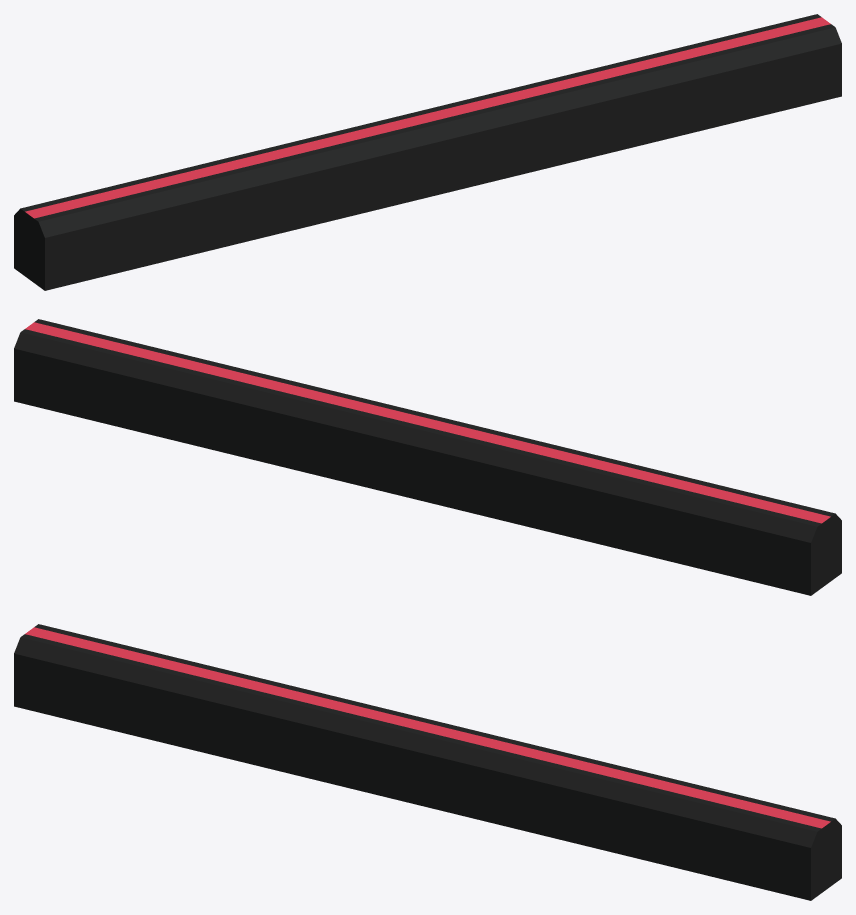
The model's file is obstacle_5_001.fbx.
3 renders of one model, top to bottom at view 1: azimuth 30°, elevation 25°; view 2: azimuth 150°, elevation 25°; view 3: azimuth 330°, elevation 25°, orthographic.
Parts seen in each view (by area): view 1: obstacle_5_001; view 2: obstacle_5_001; view 3: obstacle_5_001.
Part boxes in pixels (<box>): obstacle_5_001: <box>14,14,841,290</box>; obstacle_5_001: <box>14,319,841,595</box>; obstacle_5_001: <box>14,624,841,900</box>.
Size of the model in its own units: 1624 by 109 by 126.
